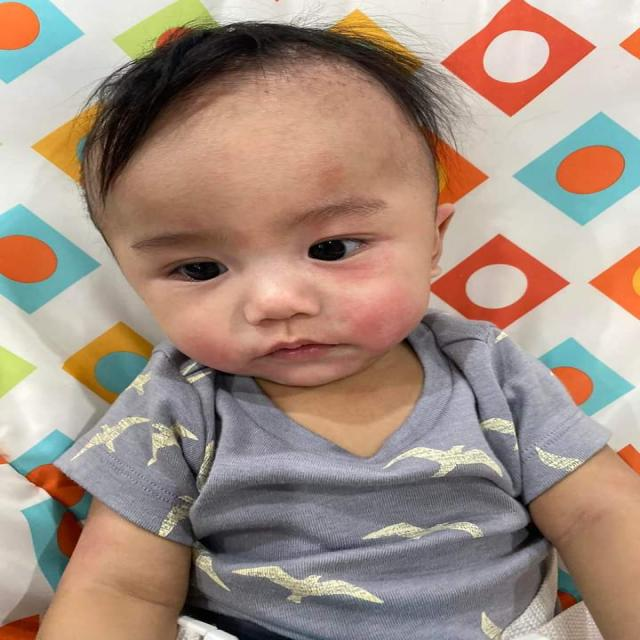Eczema Mild: (331, 285, 411, 332)
